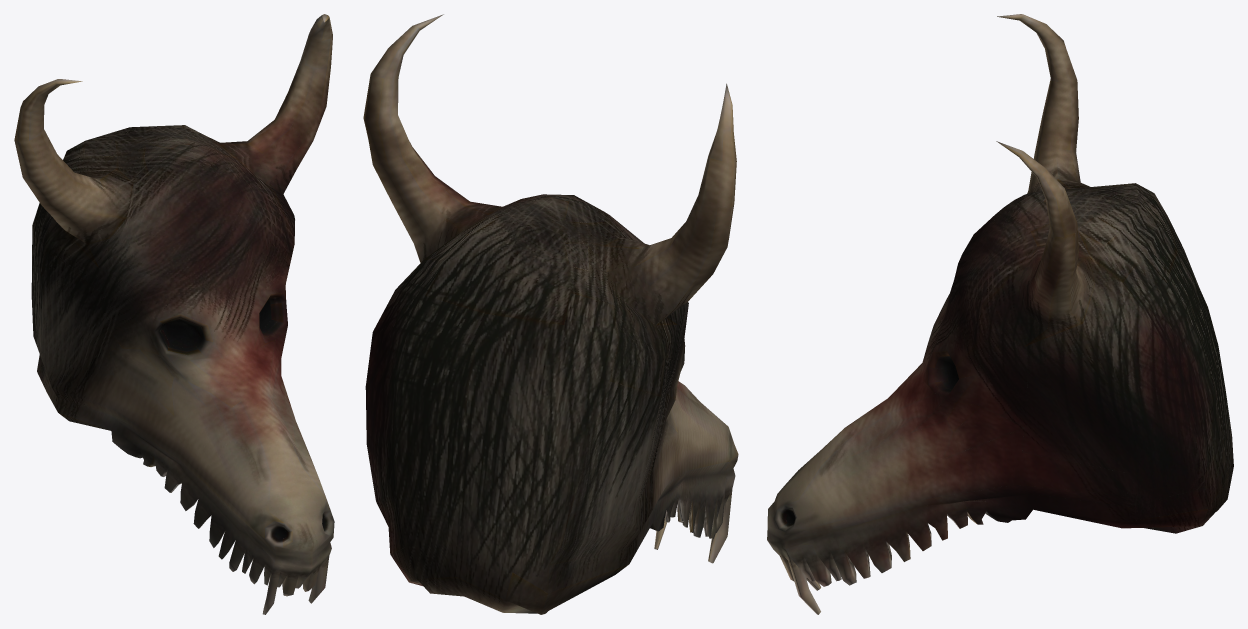
The model's file is HauntingHead.fbx.
3 views of the same model, side by side, from view 1: azimuth 30°, elevation 25°; view 2: azimuth 150°, elevation 25°; view 3: azimuth 270°, elevation 25° (orthographic). The views are drawn at different scales.
Visible parts, largest first — view 1: HeadHaunting; view 2: HeadHaunting; view 3: HeadHaunting.
Boxes of the visible parts, box(x1,y1,x2,y2) form: HeadHaunting: box(14, 14, 334, 614); HeadHaunting: box(363, 14, 738, 614); HeadHaunting: box(767, 14, 1233, 614).
Bounding box in the file's own units: 1.76 × 2.65 × 2.14.
